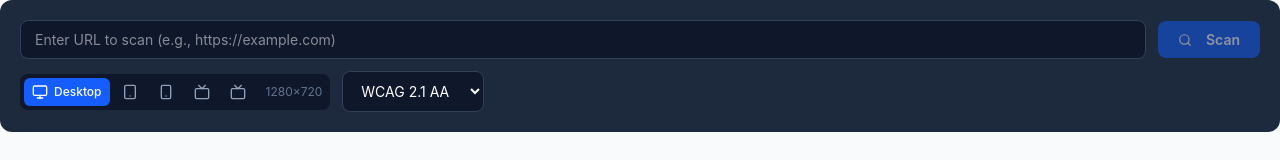
Scenario: components/scan/ScanForm › shows TV 4K viewport dimensions when selected
The image size is (1280, 160).
Click the button named "TV 4K (1280×720)": (238, 92) left=222, top=78, right=254, bottom=106
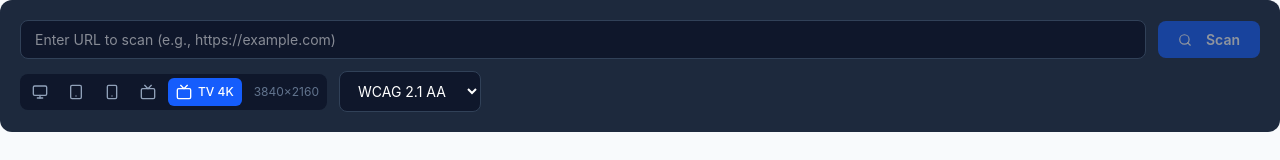
expect the text "3840×2160" is shown: met, box left=254, top=84, right=319, bottom=98
